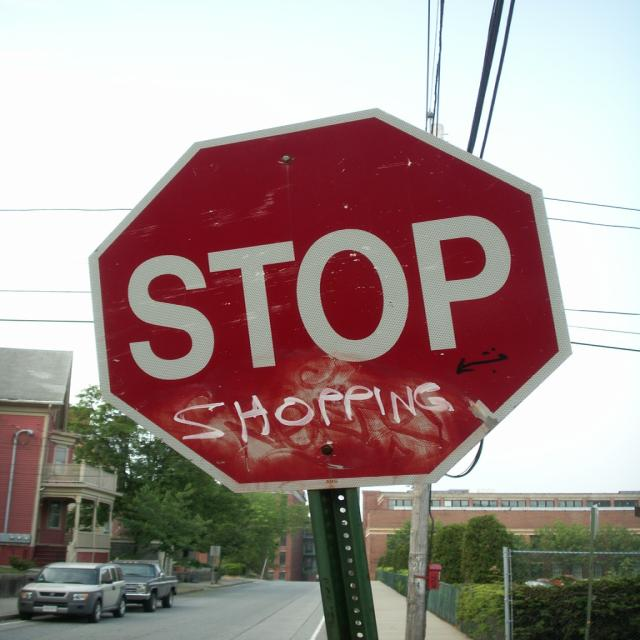Stop-sign: (93, 112, 568, 486)
